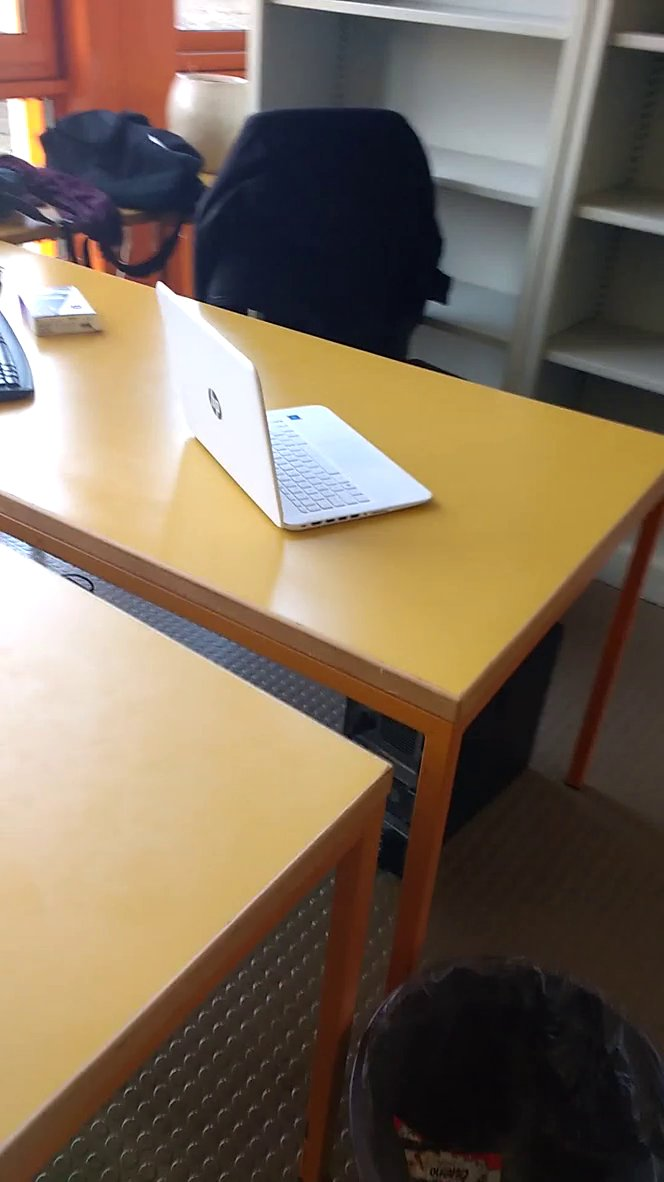bag: (30, 95, 215, 250)
bin: (323, 898, 664, 1182)
chair: (193, 106, 485, 368)
laptop: (151, 263, 453, 555)
